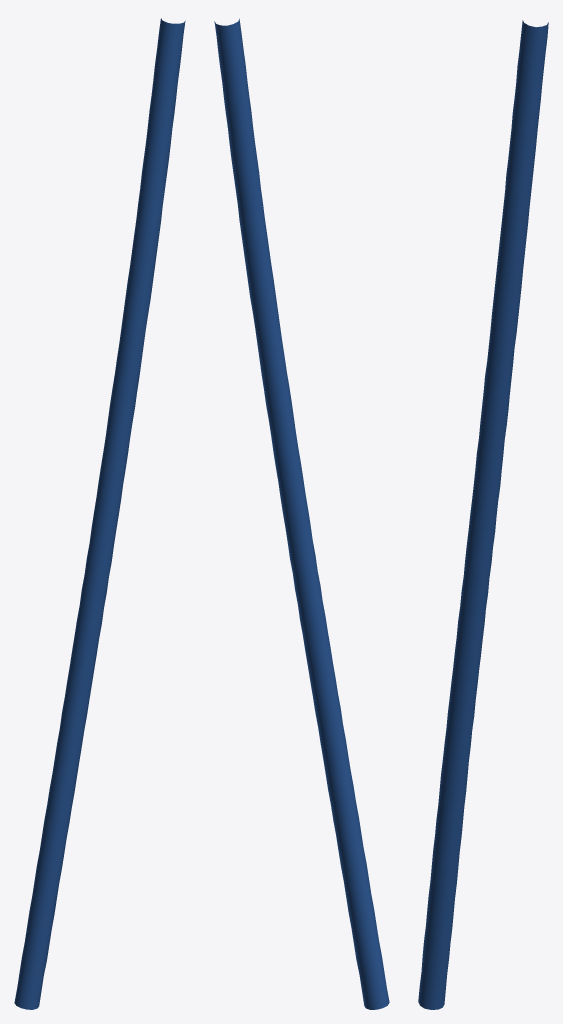
Rendered from basilic_vein_right.glb.
3 renders of one model, left to right at view 1: azimuth 30°, elevation 25°; view 2: azimuth 210°, elevation 25°; view 3: azimuth 330°, elevation 25°, orthographic. The views are drawn at different scales.
Bounding box in the file's own units: 0.0587 × 0.3812 × 0.0259.
